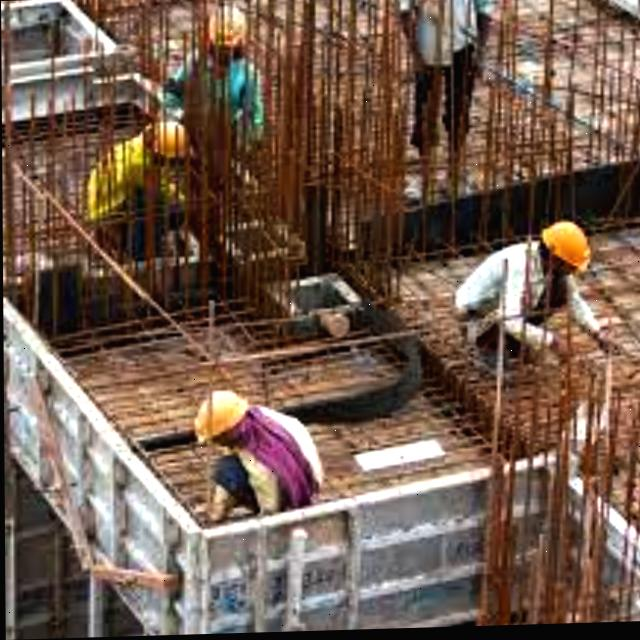helmet: (186, 383, 259, 447), (531, 215, 596, 273), (193, 3, 252, 51), (143, 109, 195, 155)
vest: (86, 132, 158, 217)
